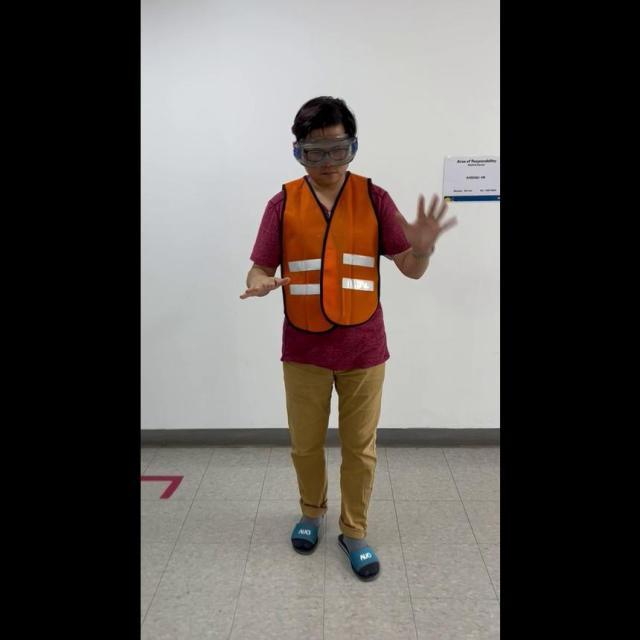bare_hand: (398, 185, 457, 259), (237, 269, 289, 301)
